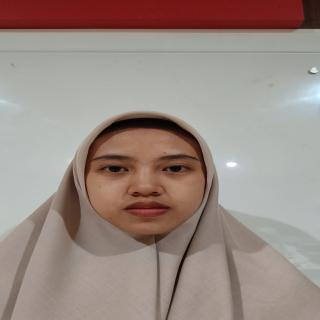Netral: (76, 116, 220, 241)
